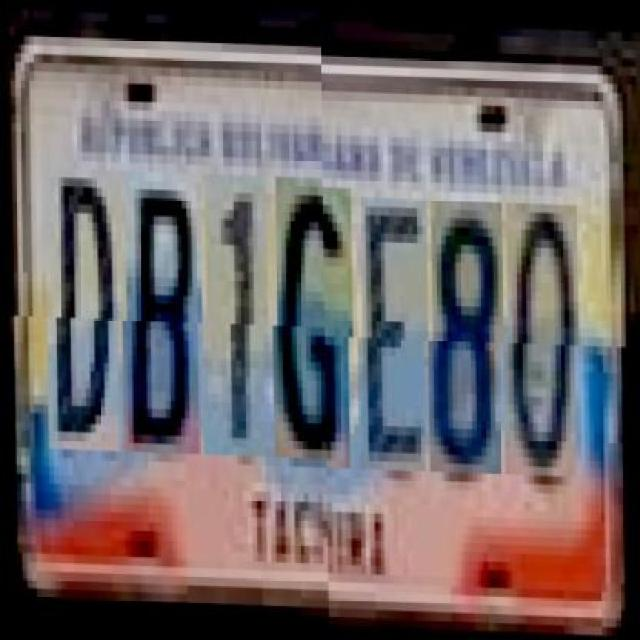1: (204, 182, 268, 463)
8: (430, 197, 504, 471)
b: (124, 178, 204, 462)
d: (49, 176, 123, 459)
e: (359, 194, 428, 468)
g: (274, 183, 354, 466)
o: (506, 198, 580, 472)
